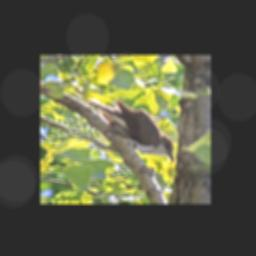Cuckoo: (74, 96, 176, 163)
